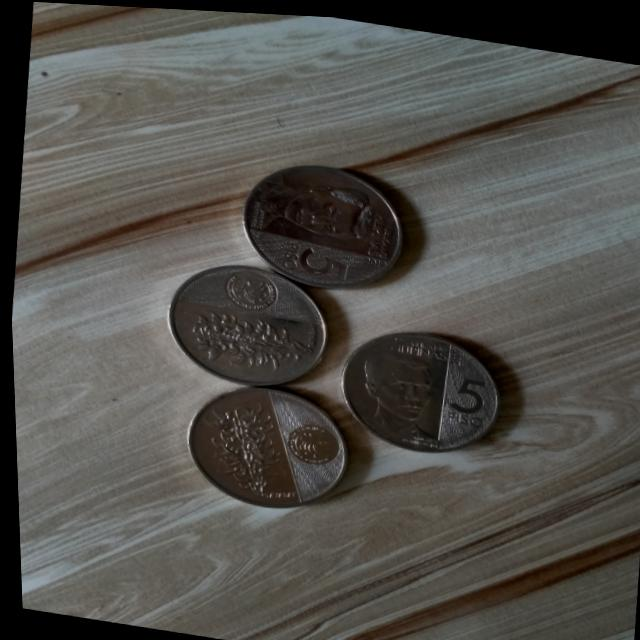5_New_Back: (169, 298, 316, 377), (187, 389, 281, 494)
5_New_Front: (258, 224, 367, 291), (425, 360, 502, 424)
